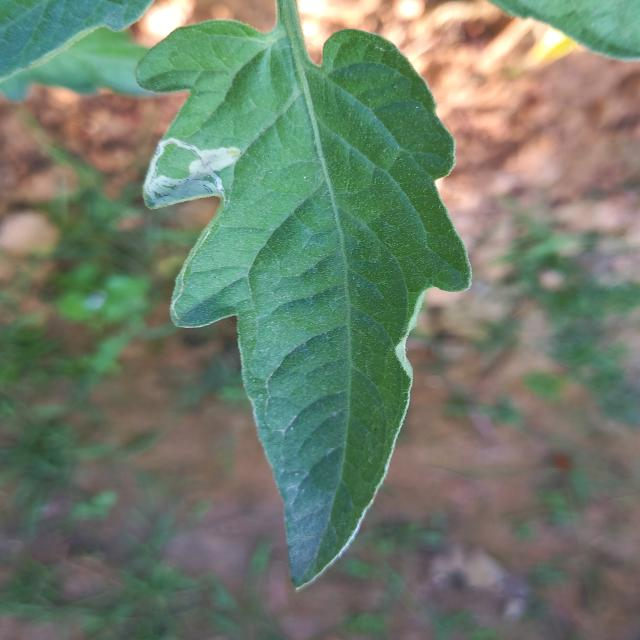Tuta absoluta: (140, 135, 242, 218)
